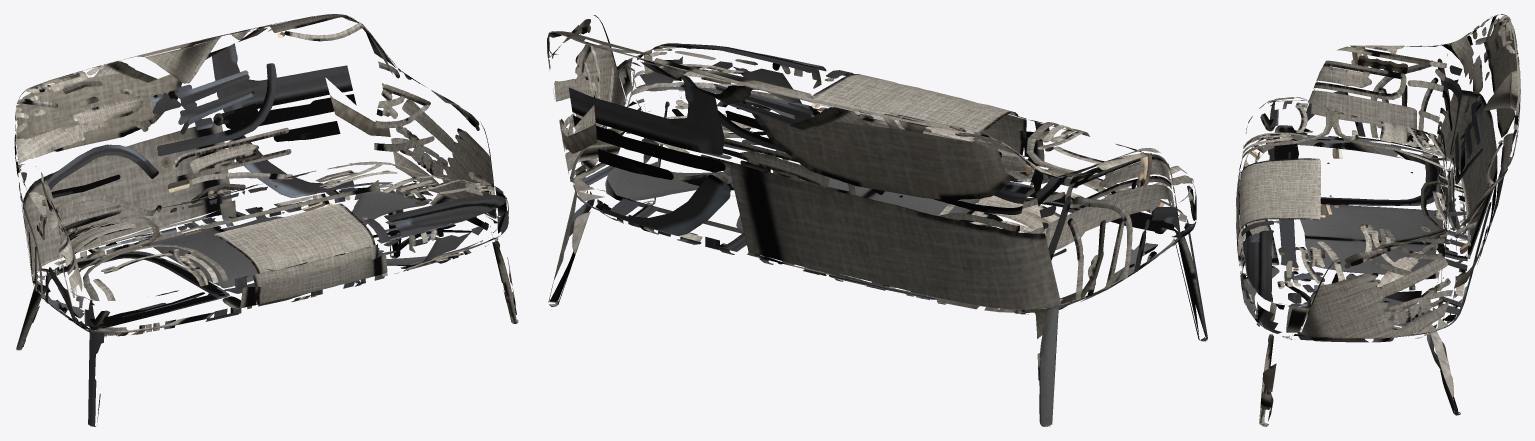
3 views of the same model, side by side, from view 1: azimuth 30°, elevation 25°; view 2: azimuth 150°, elevation 25°; view 3: azimuth 270°, elevation 25° (orthographic). The views are drawn at different scales.
Parts seen in each view (by area): view 1: solid_002, solid_001; view 2: solid_002, solid_001; view 3: solid_002, solid_001.
Boxes of the visible parts, bbox=[...] form: solid_002: bbox=[14, 14, 508, 331]; solid_001: bbox=[16, 187, 518, 426]; solid_002: bbox=[547, 15, 1196, 309]; solid_001: bbox=[548, 89, 1207, 426]; solid_002: bbox=[1236, 14, 1520, 338]; solid_001: bbox=[1239, 133, 1466, 426].
Size of the model in its own units: 1.96 by 1.02 by 1.12.
